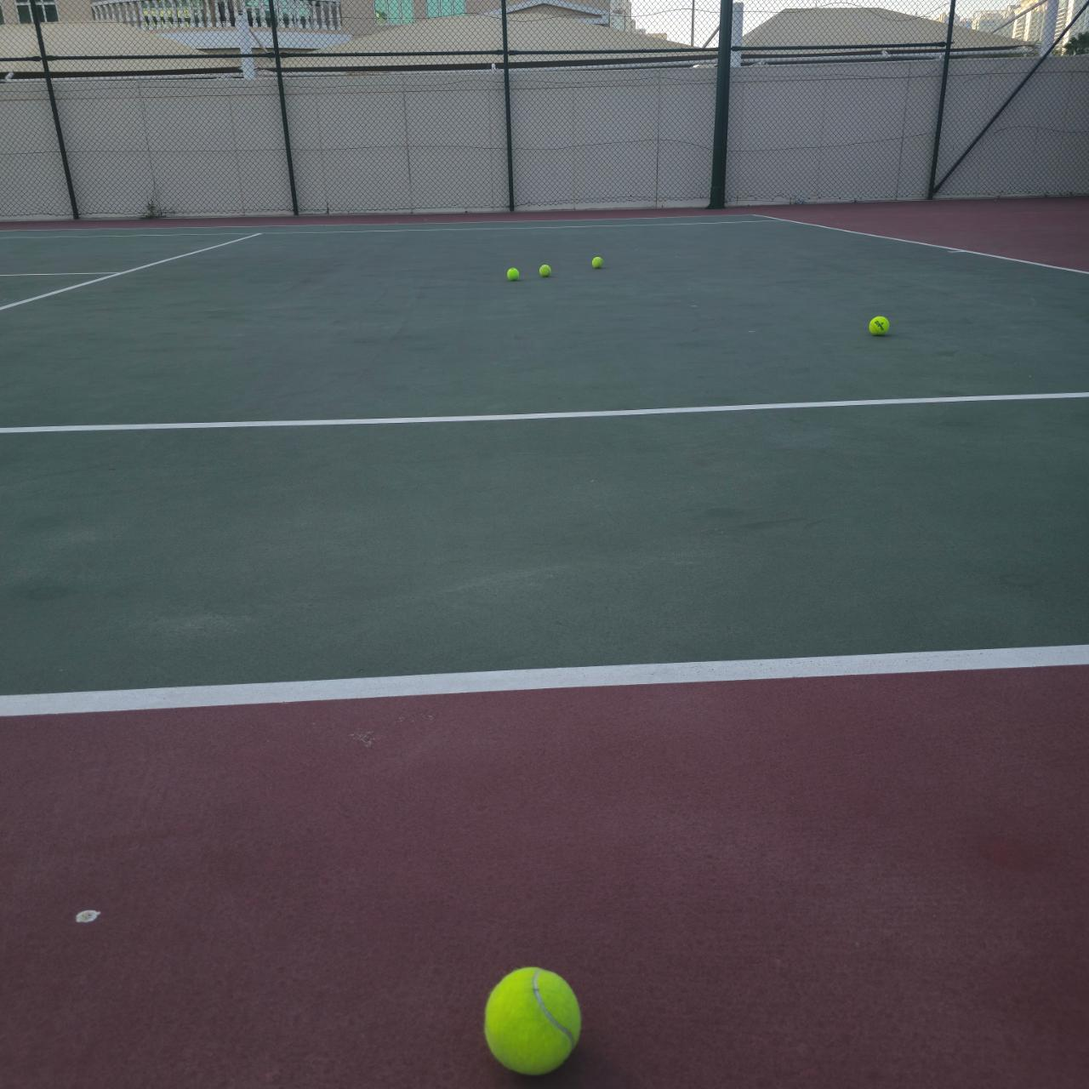tennis-ball: (482, 962, 584, 1076), (869, 313, 892, 336), (539, 264, 552, 278), (507, 268, 519, 281), (592, 257, 603, 269)
